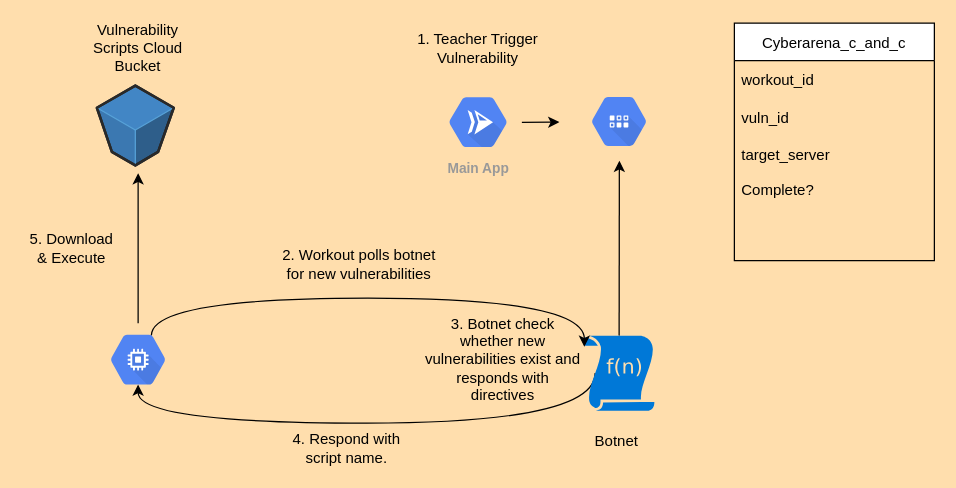
This 956x488 diagram has some shape labels left out. Here are the shapes that lost their labels. From the top down, the centre of each, then its label:
the point at 618,121: Vulnerability Datastore
the point at 137,359: Workout Server
